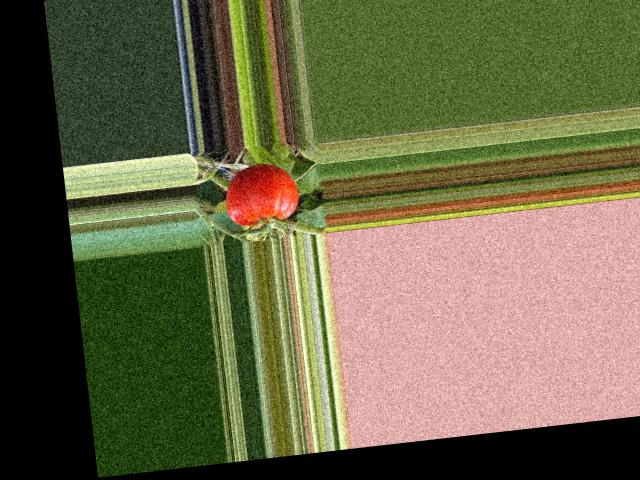tomato: (221, 159, 300, 227)
